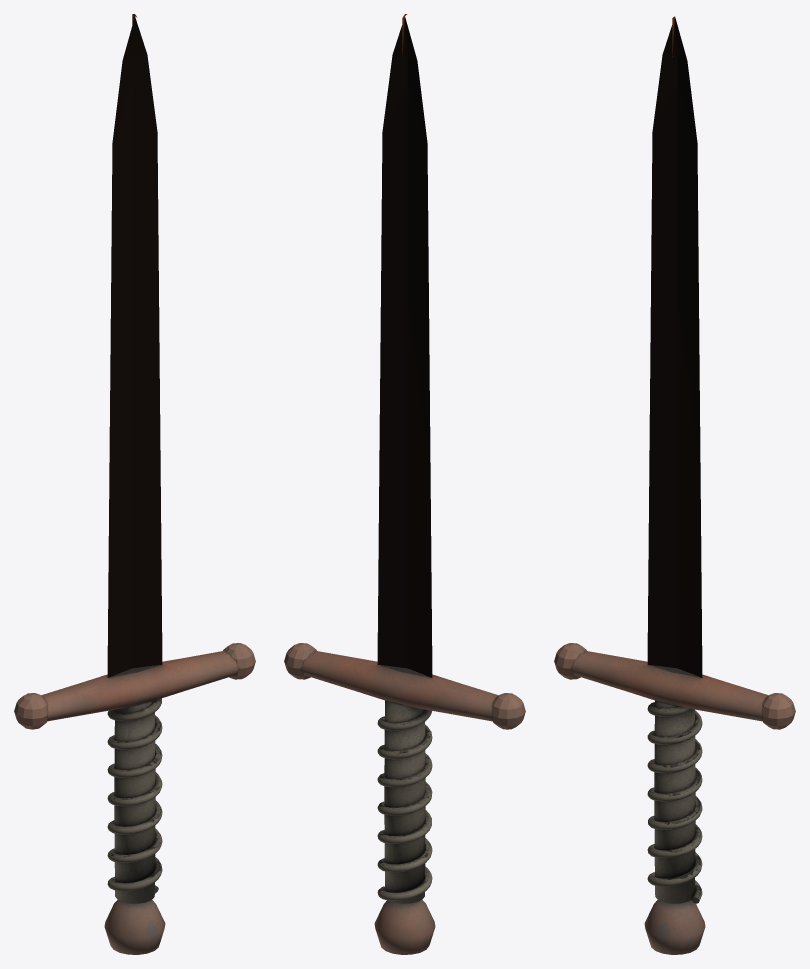
File: arma_espada_curta_enferrujada.glb
3 views of the same model, side by side, from view 1: azimuth 30°, elevation 25°; view 2: azimuth 150°, elevation 25°; view 3: azimuth 330°, elevation 25° (orthographic).
Parts seen in each view (by area): view 1: arma_espada_curta_enferrujada; view 2: arma_espada_curta_enferrujada; view 3: arma_espada_curta_enferrujada.
Boxes of the visible parts, x1=… form: arma_espada_curta_enferrujada: x1=14, y1=14, x2=255, y2=954; arma_espada_curta_enferrujada: x1=284, y1=14, x2=525, y2=954; arma_espada_curta_enferrujada: x1=554, y1=16, x2=795, y2=954.
Bounding box in the file's own units: 0.2312 × 0.8732 × 0.052.
Materials: 1 (1 with a texture image).
